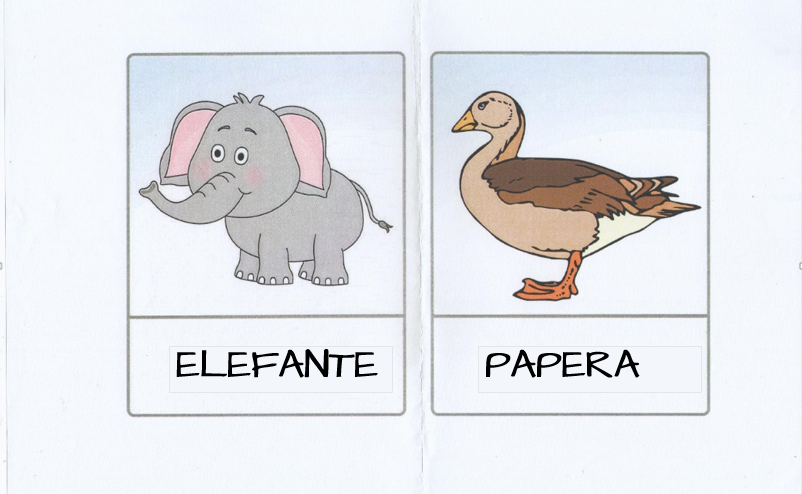elefante: (131, 66, 407, 414)
papera: (435, 62, 711, 404)
